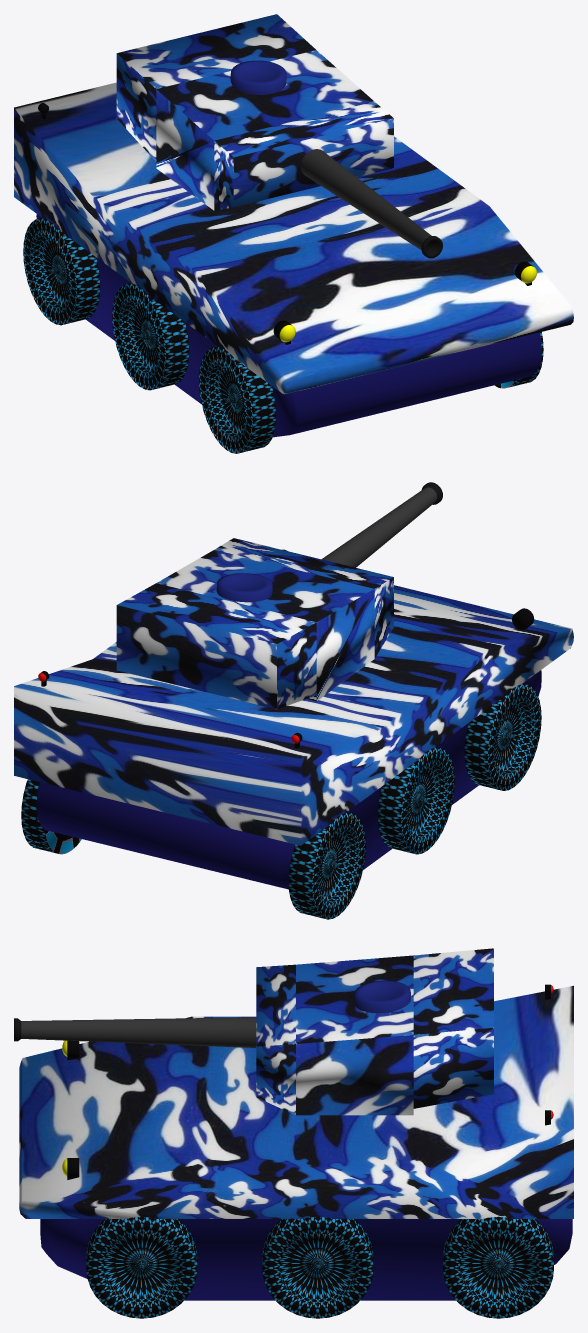
Rendered from TankGuerraBlue.fbx.
The picture shows the model from 3 angles, top to bottom: view 1: azimuth 30°, elevation 25°; view 2: azimuth 150°, elevation 25°; view 3: azimuth 270°, elevation 25°; orthographic projection.
Visible parts, largest first — view 1: meioTank, topoTank, BaixoTank, Cylinder, Cylinder.001, Cylinder.002, Bazooca, Cylinder.003; view 2: meioTank, topoTank, BaixoTank, Cylinder.002, Cylinder, Cylinder.001, Bazooca, Cylinder.003; view 3: meioTank, topoTank, BaixoTank, Cylinder.001, Cylinder, Cylinder.002, Bazooca, Cylinder.003.
Part boxes in pixels (x1,y1,x2,y2): meioTank: (14,82,573,394); topoTank: (116,14,393,210); BaixoTank: (36,214,541,437); Cylinder: (199,332,543,453); Cylinder.001: (112,283,189,390); Cylinder.002: (23,218,100,325); Bazooca: (300,149,442,258); Cylinder.003: (230,60,286,94); meioTank: (14,585,573,845); topoTank: (116,538,393,709); BaixoTank: (36,670,541,889); Cylinder.002: (21,779,365,919); Cylinder: (464,683,541,790); Cylinder.001: (378,747,454,854); Bazooca: (321,482,442,567); Cylinder.003: (216,573,272,602); meioTank: (19,985,573,1218); topoTank: (256,948,493,1115); BaixoTank: (40,1219,572,1300); Cylinder.001: (262,1216,373,1318); Cylinder: (86,1216,197,1318); Cylinder.002: (443,1216,553,1318); Bazooca: (14,1017,256,1047); Cylinder.003: (354,980,411,1013).
Size of the model in its own units: 613 by 515 by 1008.
Materials: 12 (4 with a texture image).
